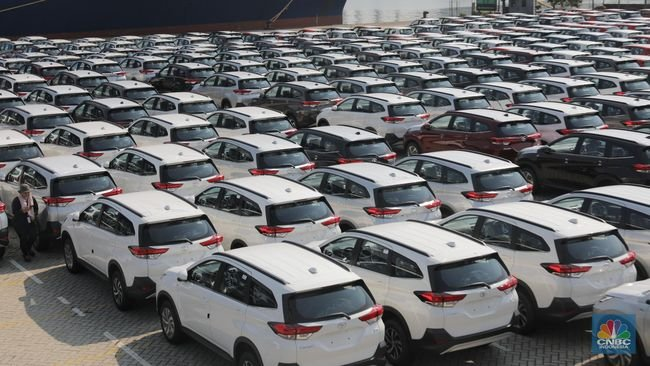mobil: (155, 241, 383, 364), (348, 226, 526, 366), (57, 195, 216, 293), (484, 199, 635, 302)
